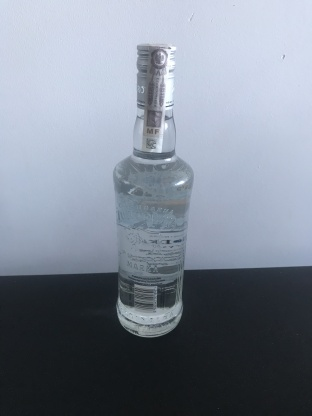nakretka: (133, 39, 178, 114)
